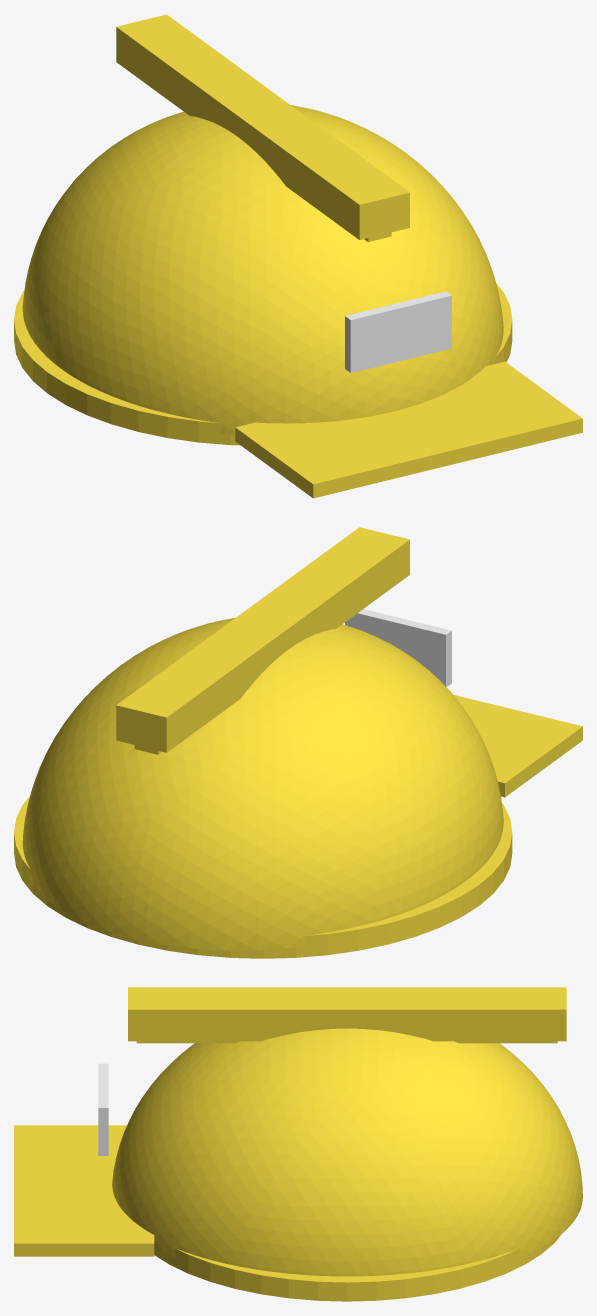
The model's file is ppe_hard_hat.glb.
3 renders of one model, top to bottom at view 1: azimuth 30°, elevation 25°; view 2: azimuth 150°, elevation 25°; view 3: azimuth 270°, elevation 25°, orthographic. The views are drawn at different scales.
Visible parts, largest first — view 1: ppe_hard_hat_0, ppe_hard_hat_2, ppe_hard_hat_4, ppe_hard_hat_1, ppe_hard_hat_6; view 2: ppe_hard_hat_0, ppe_hard_hat_4, ppe_hard_hat_1, ppe_hard_hat_2, ppe_hard_hat_6; view 3: ppe_hard_hat_0, ppe_hard_hat_4, ppe_hard_hat_2, ppe_hard_hat_1, ppe_hard_hat_6, ppe_hard_hat_3.
Boxes of the visible parts, x1=… form: ppe_hard_hat_0: x1=22, y1=105, x2=503, y2=435; ppe_hard_hat_2: x1=235, y1=361, x2=582, y2=498; ppe_hard_hat_4: x1=116, y1=14, x2=409, y2=239; ppe_hard_hat_1: x1=14, y1=283, x2=512, y2=445; ppe_hard_hat_6: x1=345, y1=291, x2=451, y2=372; ppe_hard_hat_0: x1=22, y1=618, x2=503, y2=950; ppe_hard_hat_4: x1=116, y1=527, x2=409, y2=752; ppe_hard_hat_1: x1=14, y1=796, x2=512, y2=958; ppe_hard_hat_2: x1=454, y1=695, x2=582, y2=797; ppe_hard_hat_6: x1=345, y1=609, x2=451, y2=687; ppe_hard_hat_0: x1=112, y1=1028, x2=582, y2=1276; ppe_hard_hat_4: x1=128, y1=987, x2=566, y2=1041; ppe_hard_hat_2: x1=14, y1=1125, x2=154, y2=1256; ppe_hard_hat_1: x1=154, y1=1234, x2=561, y2=1301; ppe_hard_hat_6: x1=98, y1=1063, x2=108, y2=1155; ppe_hard_hat_3: x1=136, y1=1041, x2=557, y2=1043.
Bounding box in the file's own units: 0.256 × 0.131 × 0.3244.
